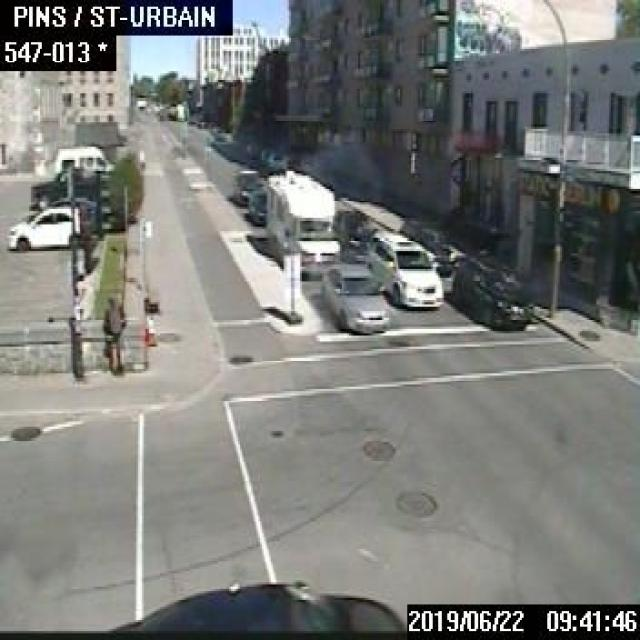construction: (144, 313, 156, 347)
pedestrian: (98, 295, 122, 369)
vehicle: (109, 578, 404, 638), (265, 168, 339, 277), (450, 252, 531, 328), (366, 230, 441, 307), (319, 262, 388, 331), (7, 204, 79, 250), (398, 217, 455, 274), (332, 208, 377, 261), (29, 167, 96, 200), (49, 194, 96, 231), (54, 144, 114, 172), (231, 168, 265, 204), (245, 188, 265, 224), (267, 151, 286, 168)
